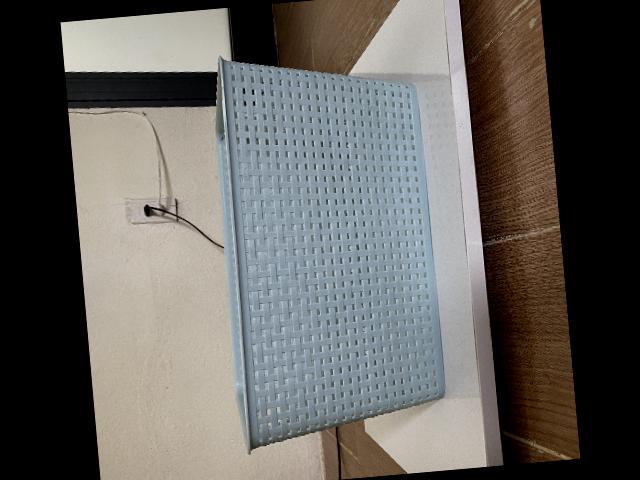cart: (216, 55, 448, 453)
